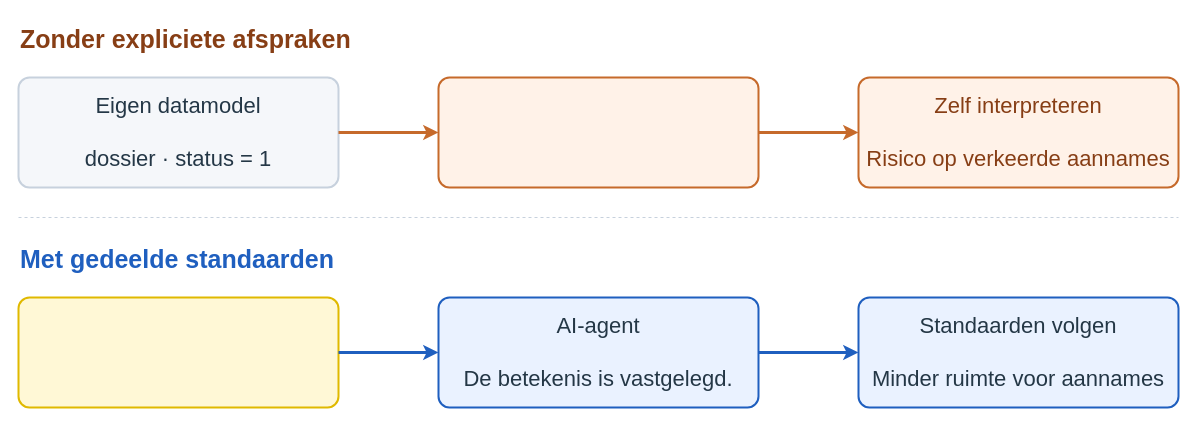
This 1197x425 diagram has some shape labels left out. The shapes that lost their labels are listed below. From the top down, each one's box as (x1, y1, x2, y2) in pixels, then its label:
(437, 76, 759, 188): AI-agent Wat betekent status 1?
(17, 296, 339, 408): Gedeeld datamodel definities · codes · relaties
